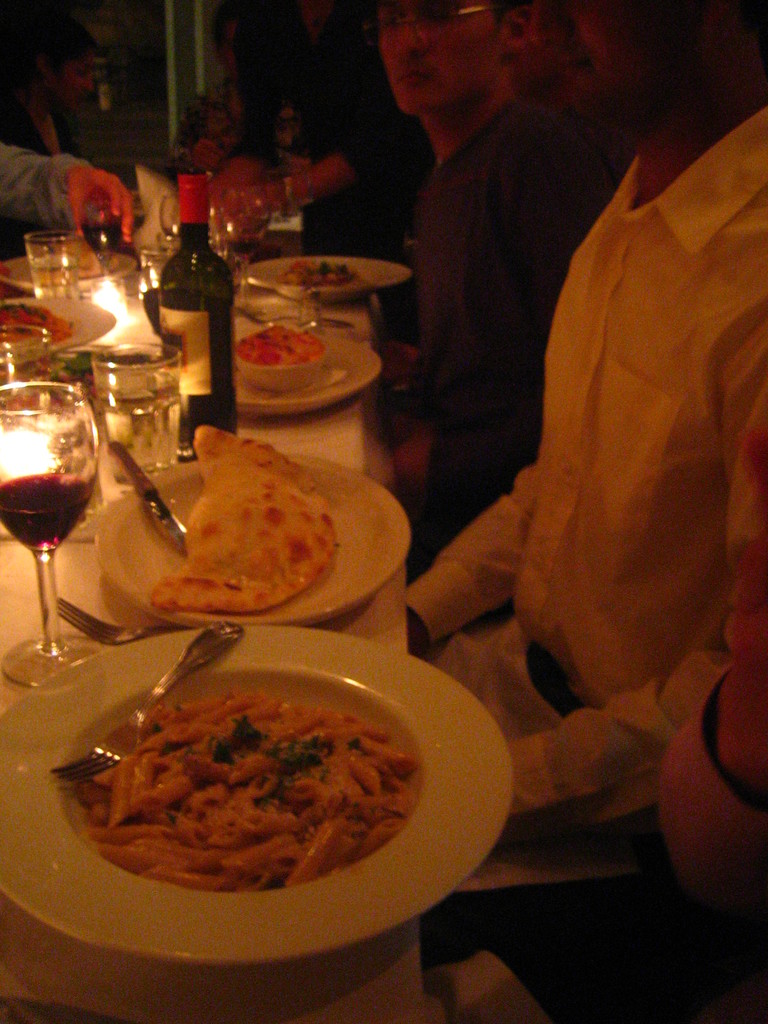pasta: (76, 668, 460, 890)
